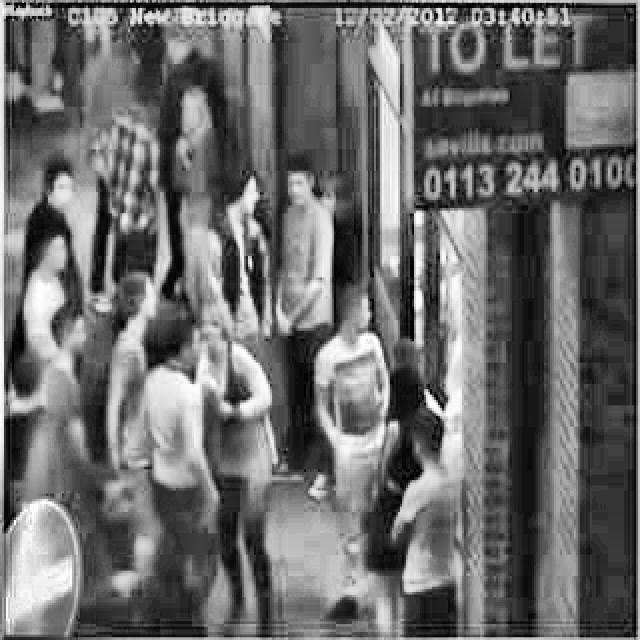Robbery: (190, 280, 281, 592), (316, 280, 427, 512), (140, 309, 214, 552), (397, 387, 463, 630), (273, 135, 361, 314), (30, 311, 99, 536), (86, 90, 176, 260), (104, 252, 152, 559), (167, 81, 241, 270), (13, 219, 75, 423), (206, 128, 264, 309), (38, 155, 94, 295), (378, 360, 412, 520)
